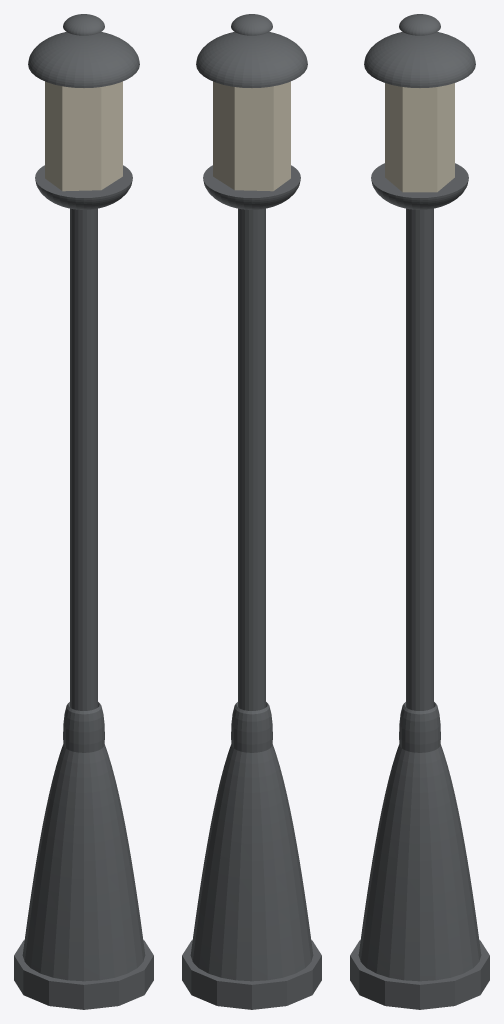
File: streetlamp_1.glb
The picture shows the model from 3 angles, left to right: view 1: azimuth 30°, elevation 25°; view 2: azimuth 150°, elevation 25°; view 3: azimuth 270°, elevation 25°; orthographic projection.
Parts seen in each view (by area): view 1: Mesh_Mesh_head_geo.001_lambert2SG.001; view 2: Mesh_Mesh_head_geo.001_lambert2SG.001; view 3: Mesh_Mesh_head_geo.001_lambert2SG.001.
Boxes of the visible parts, x1=… form: Mesh_Mesh_head_geo.001_lambert2SG.001: x1=14, y1=14, x2=153, y2=1009; Mesh_Mesh_head_geo.001_lambert2SG.001: x1=182, y1=14, x2=321, y2=1009; Mesh_Mesh_head_geo.001_lambert2SG.001: x1=350, y1=14, x2=489, y2=1009.
Size of the model in its own units: 10 by 76 by 10.
